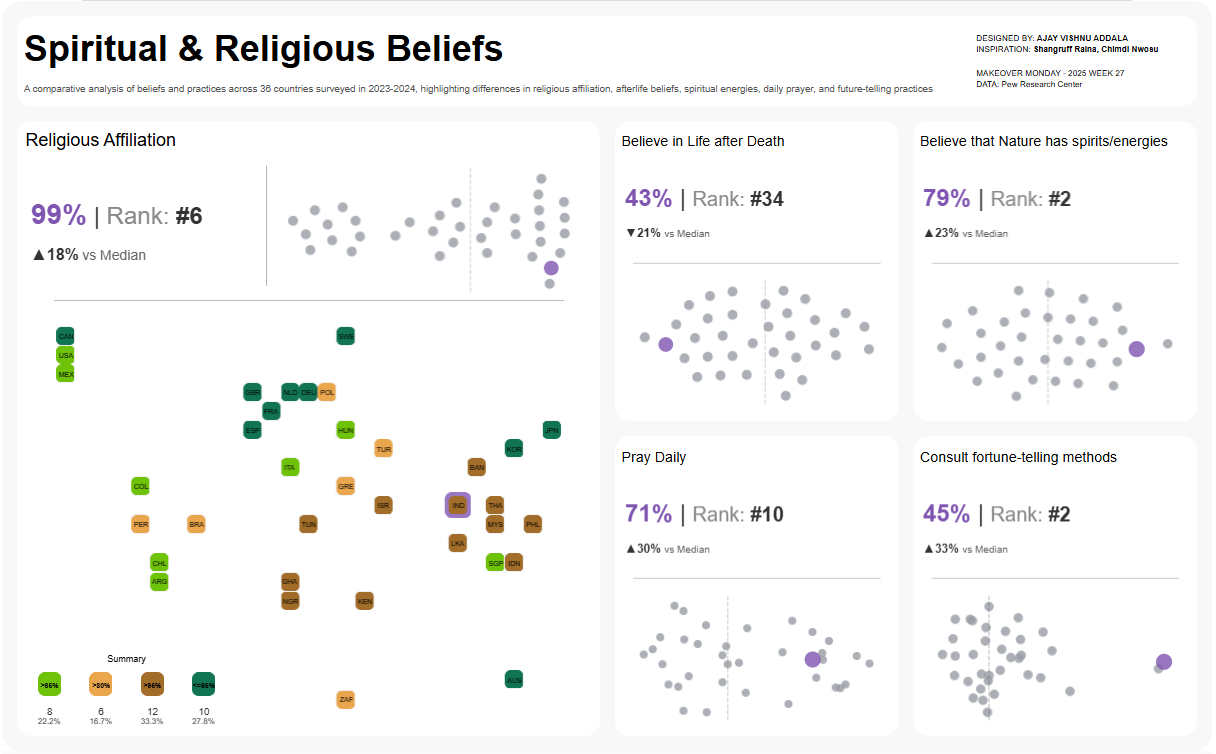

The page's visual inventory and layout, read from the dashboard file:
{"tool":"tableau","page":{"name":"MOM2025 W27","canvas":[1613,1000],"ordinal":0},"visuals":[{"type":"image","param":"Image/Frame 1 (4).png","box":[0,0,1613,1000]},{"type":"text","box":[25,25,1270,110]},{"type":"text","box":[1295,25,292,110]},{"type":"text","box":[27,166,763,40]},{"type":"text","box":[822,166,367,40]},{"type":"text","box":[1220,166,365,40]},{"type":"worksheet","title":"2_Rank","mark":"Automatic","box":[822,206,367,150]},{"type":"worksheet","title":"3_Rank","mark":"Automatic","box":[1220,206,365,150]},{"type":"worksheet","title":"1_Rank","mark":"Automatic","box":[31,210,320,192]},{"type":"worksheet","title":"1_WorldBeeswarm","mark":"Automatic","rows":["1_Y"],"cols":["1_X"],"box":[351,210,435,192]},{"type":"worksheet","title":"2_LifeAfterDeath","mark":"Automatic","rows":["2_Y"],"cols":["2_X"],"box":[822,356,367,196]},{"type":"worksheet","title":"3_Nature_Spiritual","mark":"Automatic","rows":["3_Y"],"cols":["3_X"],"box":[1220,356,365,196]},{"type":"worksheet","title":"1_World_Tile","mark":"Shape","box":[27,406,763,565]},{"type":"text","box":[822,587,367,40]},{"type":"text","box":[1220,587,367,40]},{"type":"worksheet","title":"4_Rank","mark":"Automatic","box":[822,627,367,150]},{"type":"worksheet","title":"5_Rank","mark":"Automatic","box":[1220,627,367,150]},{"type":"worksheet","title":"4_PrayDaily","mark":"Automatic","rows":["4_Y"],"cols":["4_X (3.csv)"],"box":[822,777,367,196]},{"type":"worksheet","title":"5_FortuneTeller","mark":"Automatic","rows":["5_Y"],"cols":["5_X"],"box":[1220,777,367,196]},{"type":"text","box":[29,871,274,18]},{"type":"worksheet","title":"1_World_Summary","mark":"Shape","cols":["Calculation_1285777720160059413"],"box":[29,889,274,44]},{"type":"worksheet","title":"1_World_Num","mark":"Text","cols":["Calculation_1285777720160059413"],"box":[29,933,274,40]}]}

Visuals, with their boxes in screenshot pixels (x1, y1, x2, y2), scaled from the page's 1613x1000 canvas onto the 1216x754 screenshot:
image: 0/0/1215/753
text: 19/19/976/102
text: 976/19/1196/102
text: 20/125/596/155
text: 620/125/896/155
text: 920/125/1195/155
"2_Rank" worksheet: 620/155/896/268
"3_Rank" worksheet: 920/155/1195/268
"1_Rank" worksheet: 23/158/265/303
"1_WorldBeeswarm" worksheet: 265/158/593/303
"2_LifeAfterDeath" worksheet: 620/268/896/416
"3_Nature_Spiritual" worksheet: 920/268/1195/416
"1_World_Tile" worksheet (Shape marks): 20/306/596/732
text: 620/443/896/473
text: 920/443/1196/473
"4_Rank" worksheet: 620/473/896/586
"5_Rank" worksheet: 920/473/1196/586
"4_PrayDaily" worksheet: 620/586/896/734
"5_FortuneTeller" worksheet: 920/586/1196/734
text: 22/657/228/670
"1_World_Summary" worksheet (Shape marks): 22/670/228/703
"1_World_Num" worksheet (Text marks): 22/703/228/734
